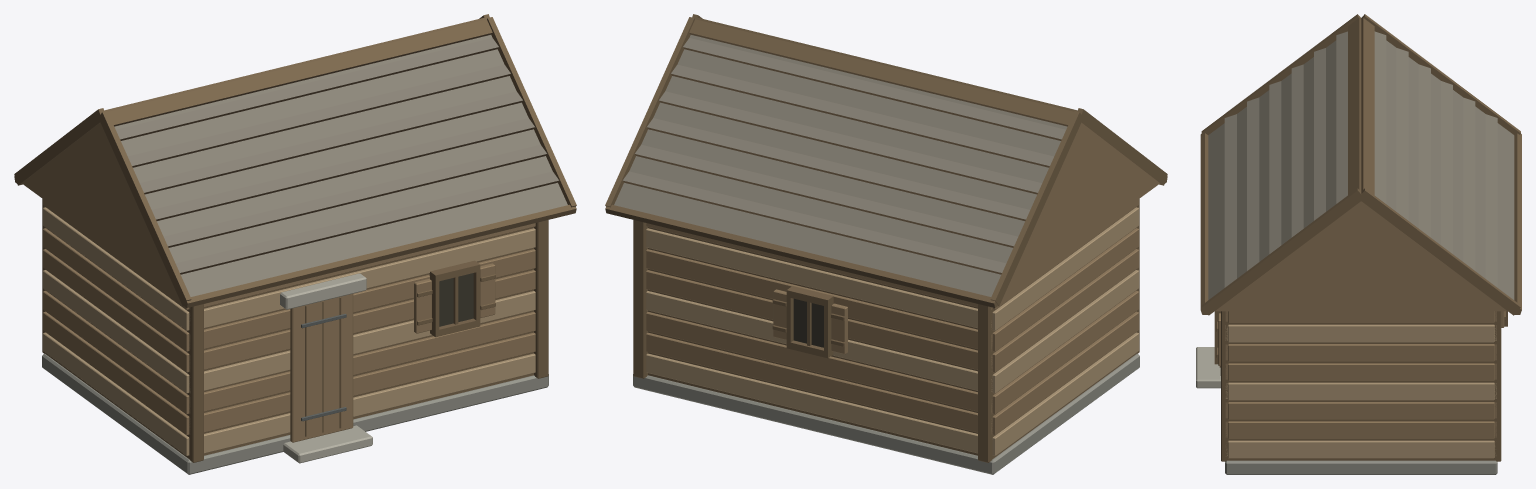
The model's file is house_timber.glb.
The picture shows the model from 3 angles, left to right: view 1: azimuth 30°, elevation 25°; view 2: azimuth 150°, elevation 25°; view 3: azimuth 270°, elevation 25°; orthographic projection. The views are drawn at different scales.
Visible parts, largest first — view 1: house_timber_fort_shingle, house_timber_oak, house_timber_oak_dark, house_timber_oak_light, house_timber_fort_stone_dark, house_timber_fort_stone_light, house_timber_black; view 2: house_timber_fort_shingle, house_timber_oak, house_timber_oak_dark, house_timber_oak_light, house_timber_fort_stone_dark, house_timber_black; view 3: house_timber_fort_shingle, house_timber_oak, house_timber_oak_dark, house_timber_oak_light, house_timber_fort_stone_dark, house_timber_fort_stone_light.
Part boxes in pixels (x1,y1,x2,y2): house_timber_fort_shingle: [22, 35, 567, 298]; house_timber_oak: [43, 199, 535, 442]; house_timber_oak_dark: [14, 14, 576, 462]; house_timber_oak_light: [43, 207, 535, 455]; house_timber_fort_stone_dark: [42, 353, 548, 474]; house_timber_fort_stone_light: [280, 273, 372, 463]; house_timber_black: [439, 273, 473, 326]; house_timber_fort_shingle: [614, 35, 1159, 298]; house_timber_oak: [646, 199, 1138, 434]; house_timber_oak_dark: [605, 14, 1167, 462]; house_timber_oak_light: [646, 207, 1138, 455]; house_timber_fort_stone_dark: [633, 353, 1139, 474]; house_timber_black: [793, 298, 823, 347]; house_timber_fort_shingle: [1208, 31, 1514, 311]; house_timber_oak: [1218, 311, 1504, 438]; house_timber_oak_dark: [1200, 14, 1521, 461]; house_timber_oak_light: [1225, 324, 1496, 458]; house_timber_fort_stone_dark: [1225, 460, 1497, 474]; house_timber_fort_stone_light: [1196, 347, 1220, 388].
Bounding box in the file's own units: 5.48 × 4.23 × 4.28.
